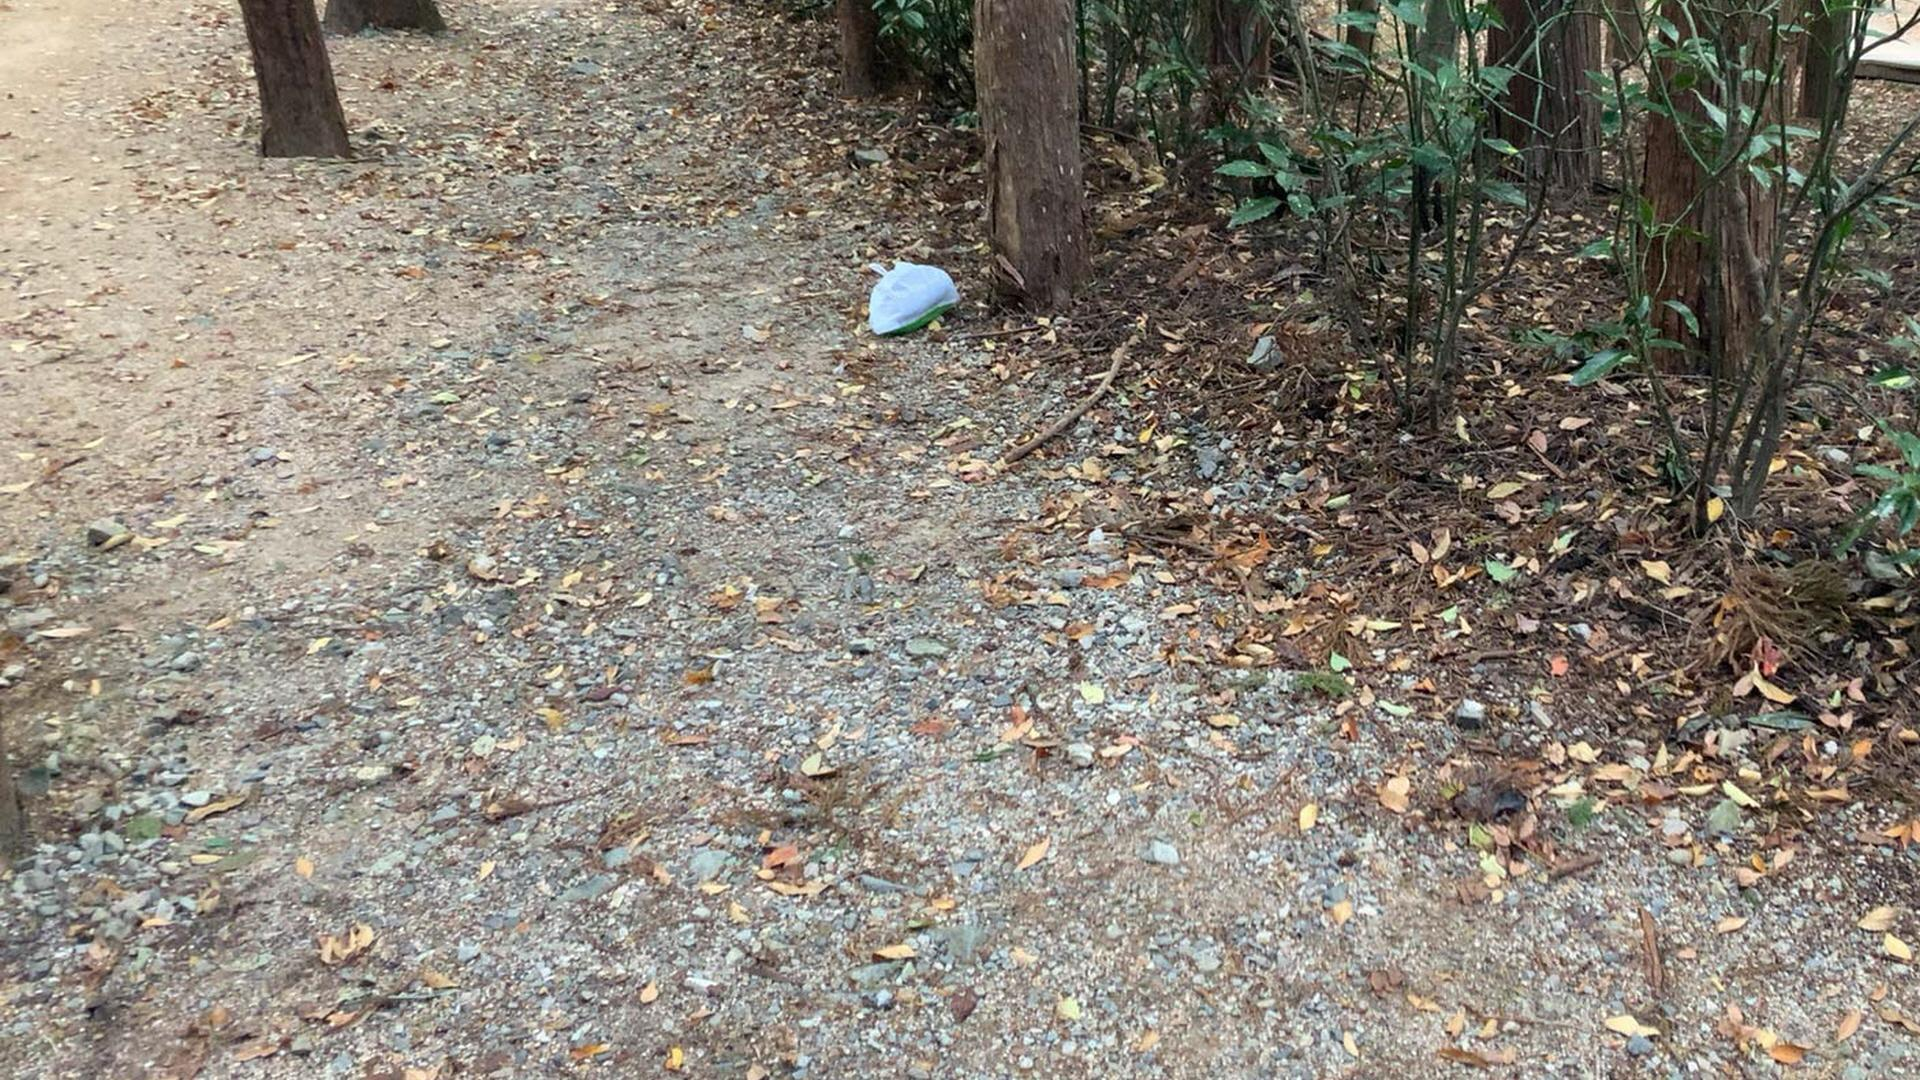white_bag: (852, 240, 967, 344)
